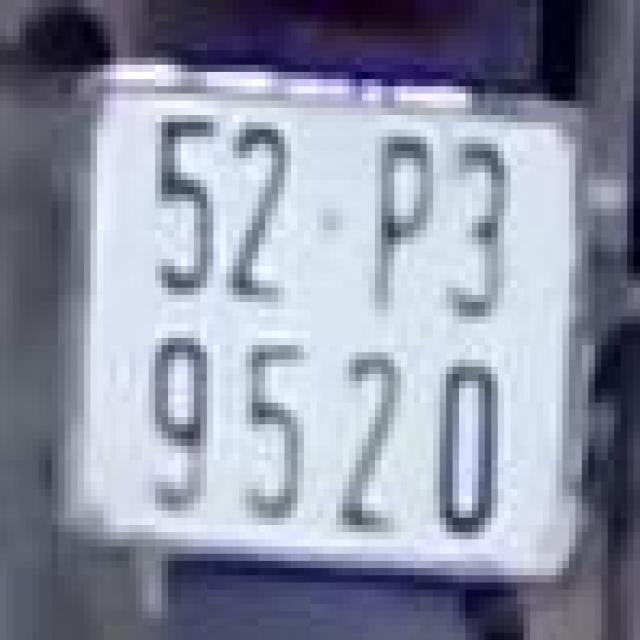0: (430, 338, 507, 539)
2: (220, 104, 310, 313), (333, 345, 417, 539)
3: (452, 122, 524, 331)
5: (136, 111, 226, 292), (236, 324, 313, 525)
9: (142, 323, 214, 518)
P: (359, 119, 443, 327)
